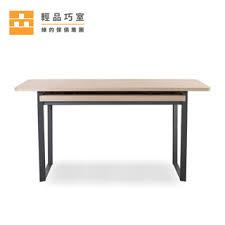desk: (11, 56, 215, 196)
